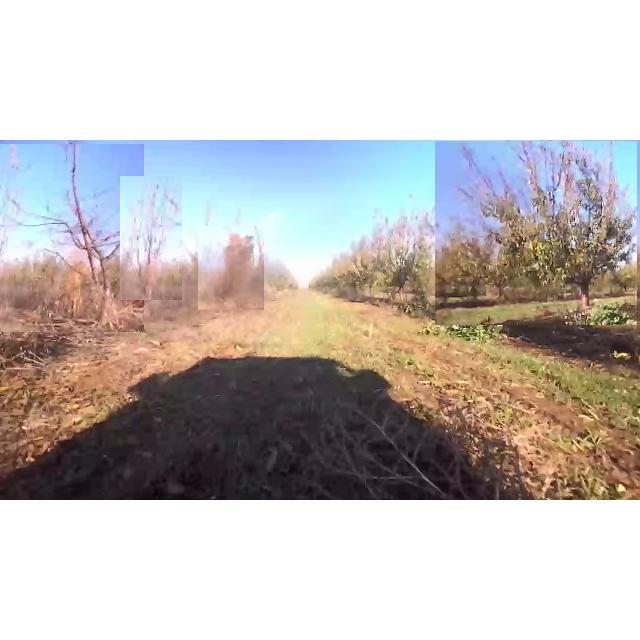direk: (435, 141, 637, 325), (0, 144, 144, 332), (120, 176, 182, 300), (371, 208, 442, 312), (198, 226, 264, 310)
